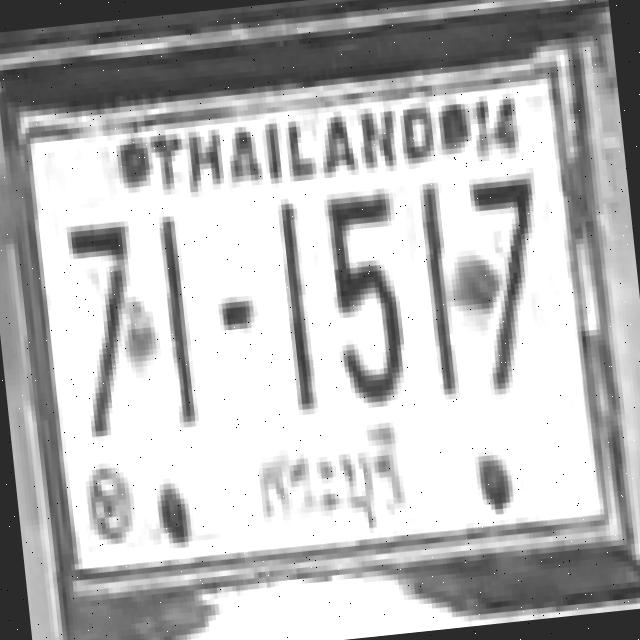1: (154, 212, 196, 424), (416, 180, 458, 392), (272, 200, 314, 407), (156, 215, 197, 422)
5: (323, 190, 406, 402)
7: (464, 173, 548, 390), (66, 218, 146, 434)
SaraBuri: (242, 417, 416, 555)
